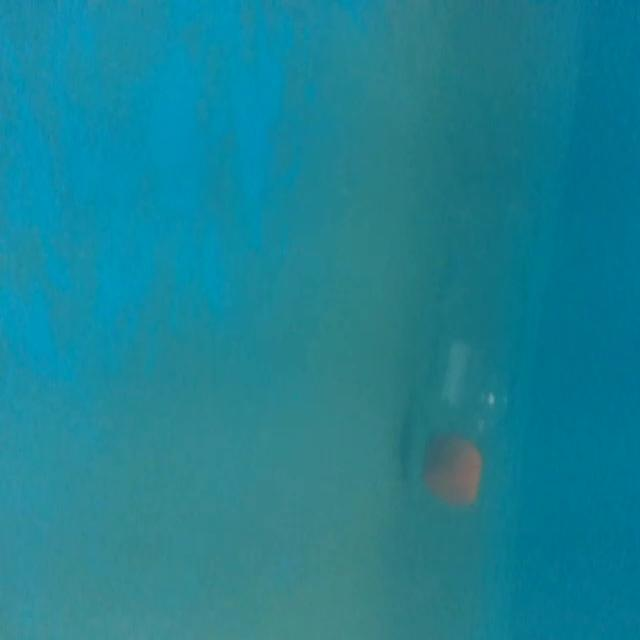plastic bottle: (417, 110, 551, 552)
